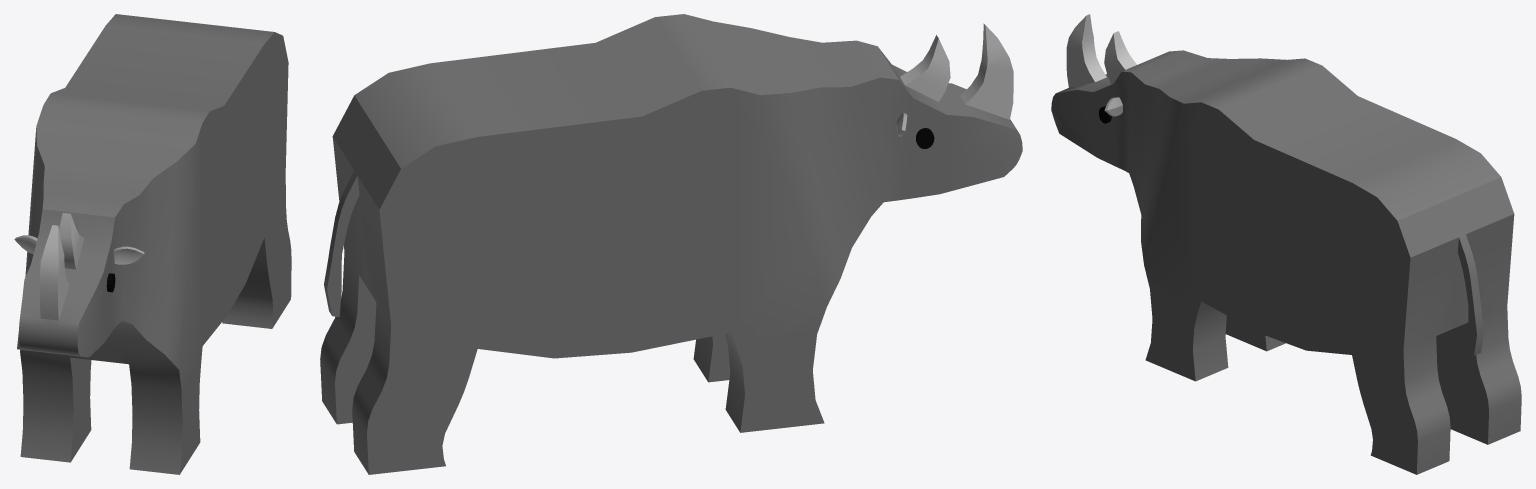
Rendered from rhinoceros.glb.
3 renders of one model, left to right at view 1: azimuth 30°, elevation 25°; view 2: azimuth 150°, elevation 25°; view 3: azimuth 270°, elevation 25°, orthographic. The views are drawn at different scales.
Parts seen in each view (by area): view 1: Plane.136, Cube.6240; view 2: Plane.136; view 3: Plane.136.
Boxes of the visible parts, left/top/right/bottom form: Plane.136: left=17, top=14, right=291, bottom=474; Cube.6240: left=14, top=235, right=144, bottom=264; Plane.136: left=320, top=14, right=1022, bottom=474; Plane.136: left=1051, top=14, right=1521, bottom=474.
Size of the model in its own units: 2.36 by 1.56 by 2.37.
Materials: 1 (1 with a texture image).
